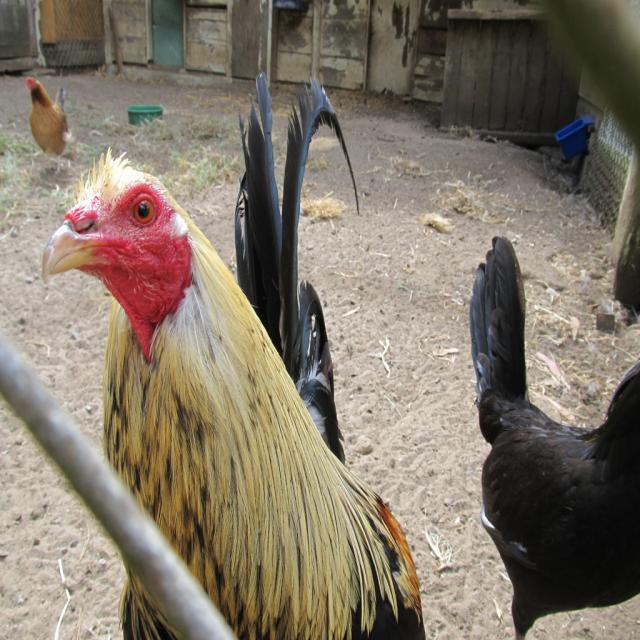Chicken: (40, 67, 429, 640), (468, 236, 640, 640)
